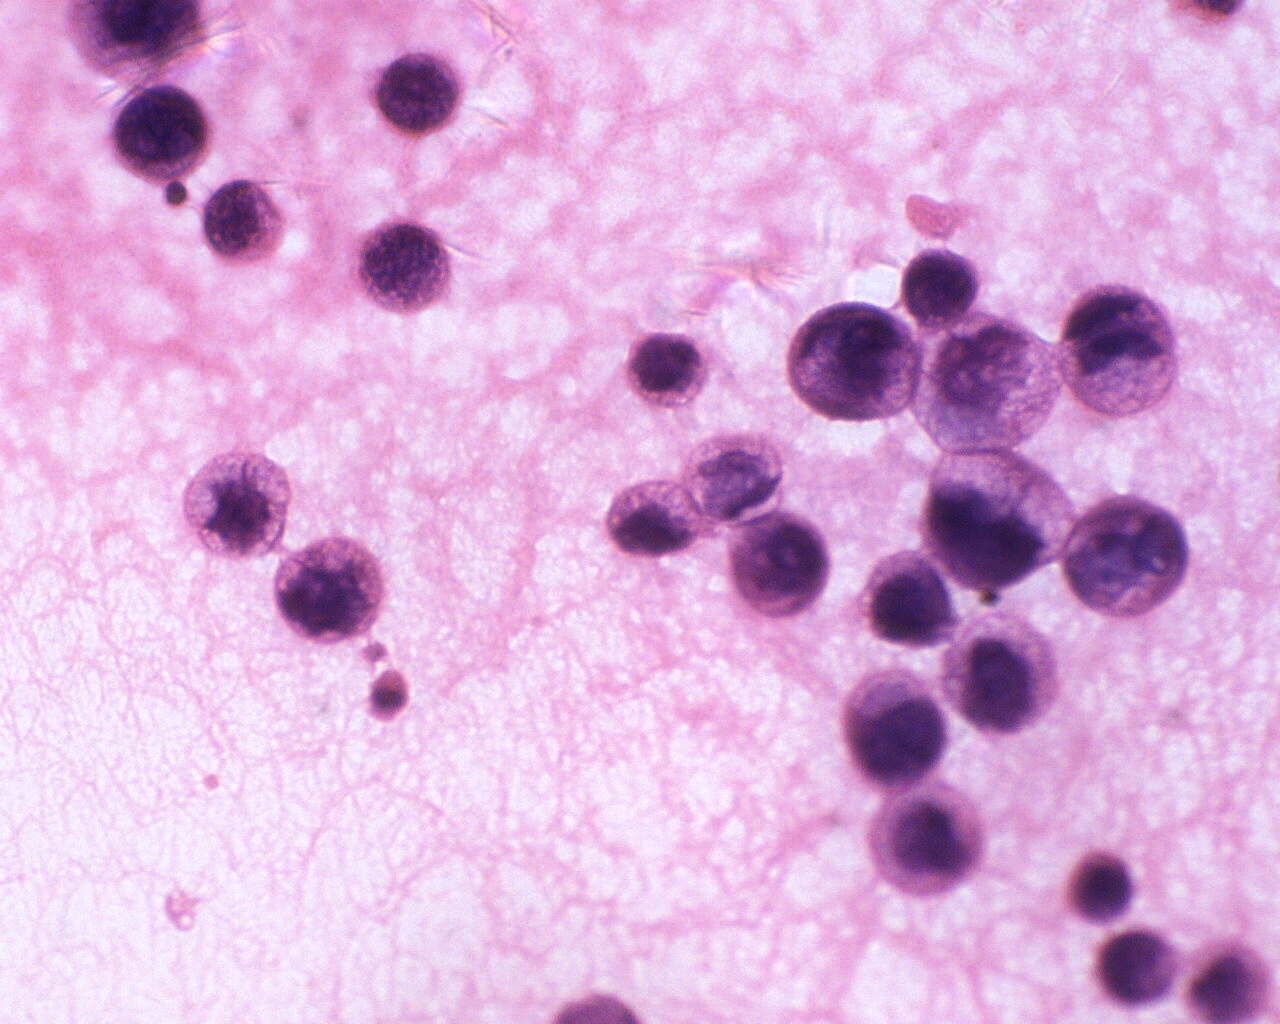ab: (920, 442, 1075, 600), (787, 296, 921, 430), (1064, 489, 1190, 625), (941, 605, 1062, 740), (266, 531, 389, 651), (842, 669, 952, 793), (104, 82, 218, 184), (856, 550, 959, 648), (197, 174, 293, 269), (600, 476, 702, 561), (895, 248, 986, 329), (624, 327, 709, 411)
